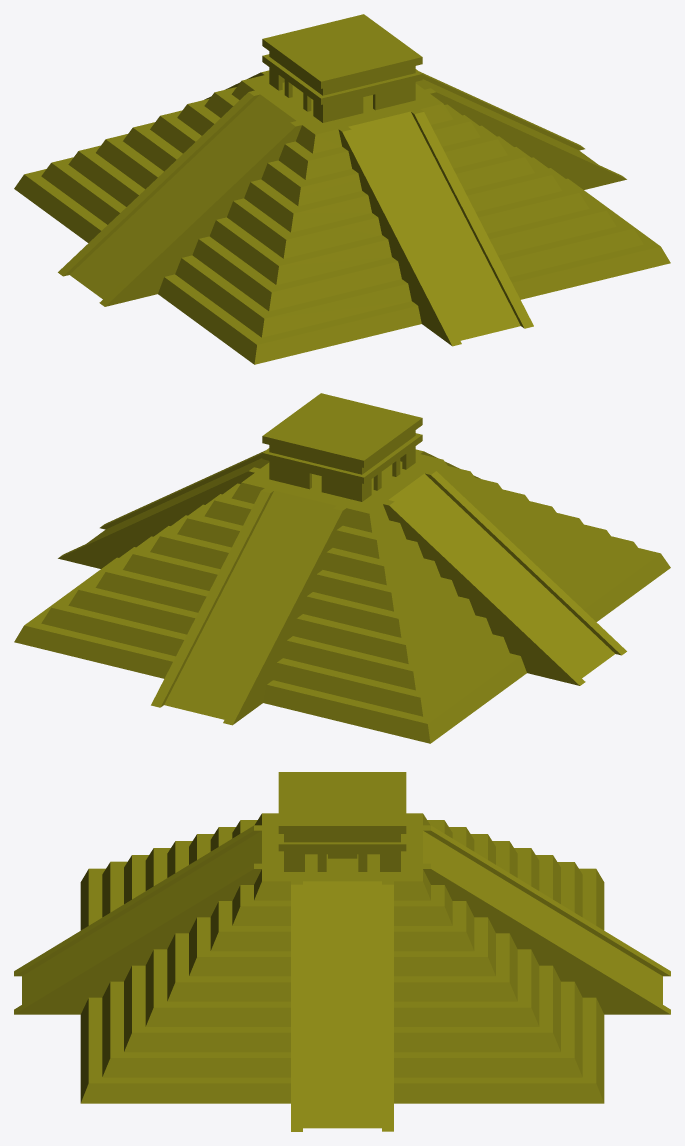
The model's file is aztec_temple.glb.
3 views of the same model, one above another, from view 1: azimuth 30°, elevation 25°; view 2: azimuth 150°, elevation 25°; view 3: azimuth 270°, elevation 25° (orthographic). The views are drawn at different scales.
Visible parts, largest first — view 1: Platform; view 2: Platform; view 3: Platform.
Part boxes in pixels (bbox=[...]): Platform: bbox=[14, 14, 670, 364]; Platform: bbox=[14, 393, 670, 743]; Platform: bbox=[14, 772, 670, 1131].
Size of what is drawn, in the model's own units: 98.8 by 32.18 by 98.8.
